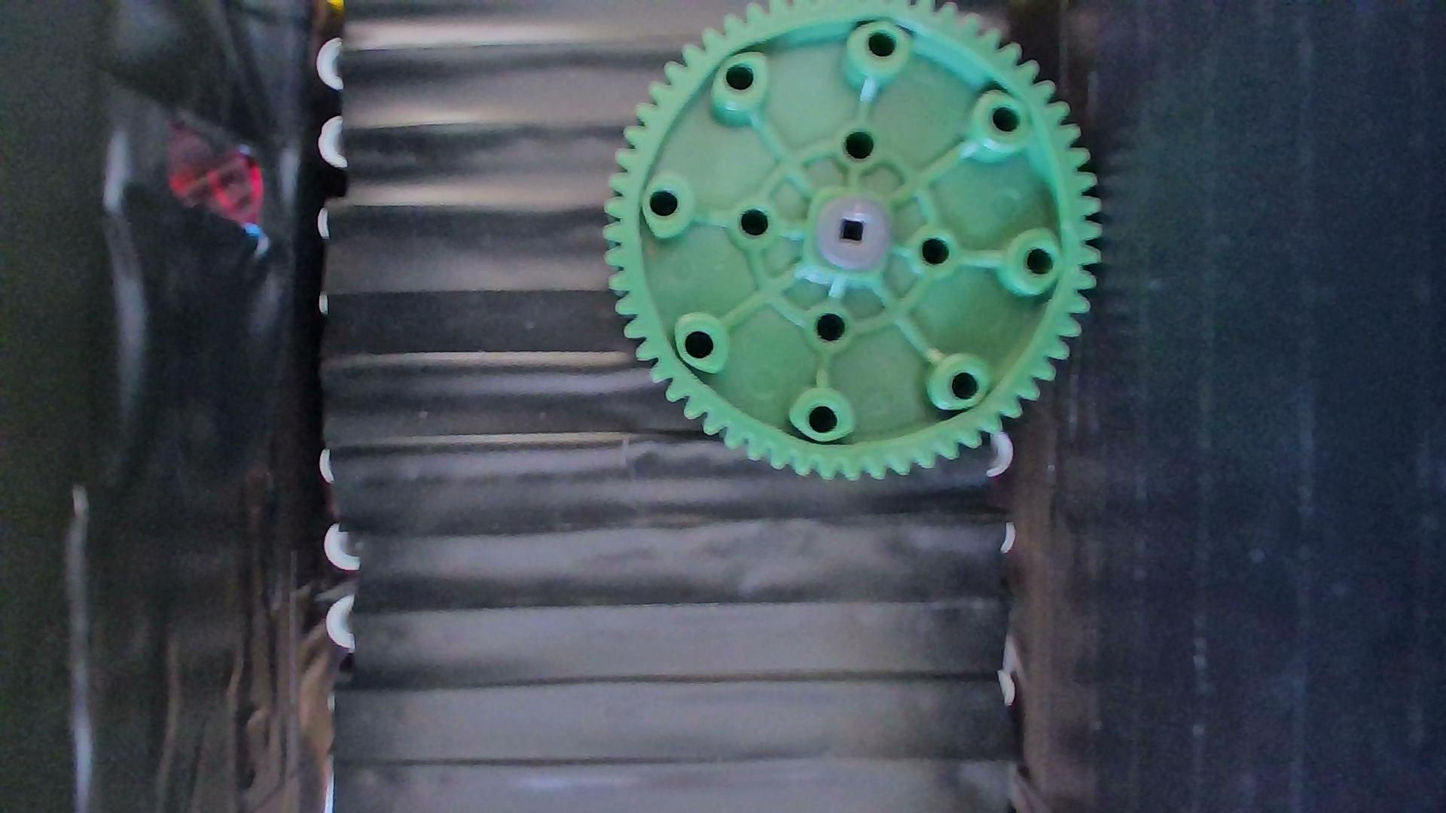gear: (602, 0, 1101, 480)
